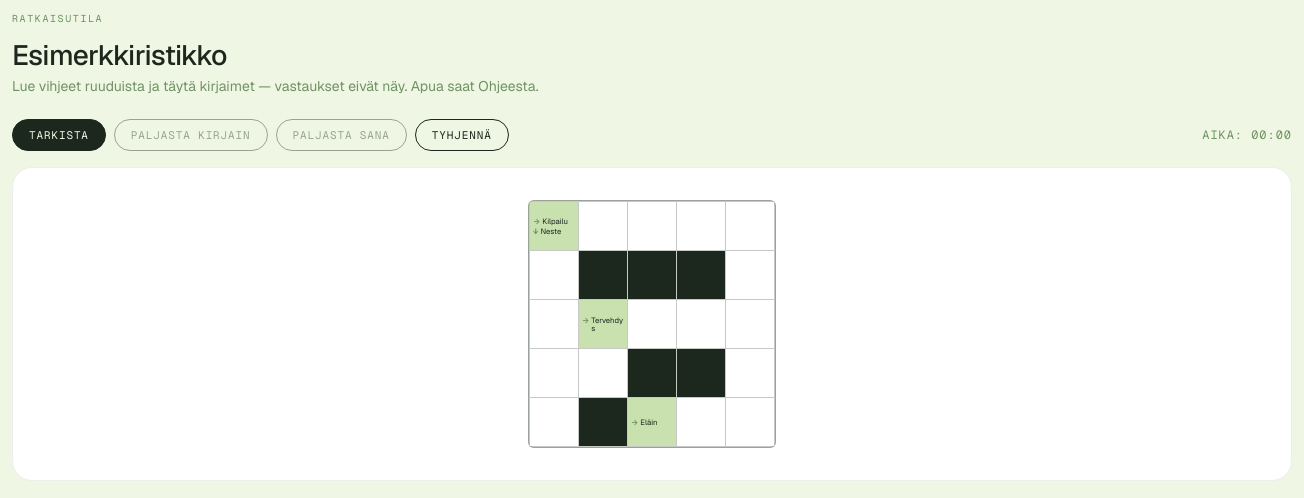
Test: SolveMode — click clue to focus answer › toggles between a two-clue cell across and down answers on re-click
The width and height of the screenshot is (1304, 498).
(0,0) owns across KISA (start (0,1)) and down VESI (start (1,0)).
Click the cell "→ Kilpailu ↓ Neste": [554, 226] box [530, 202, 578, 250]
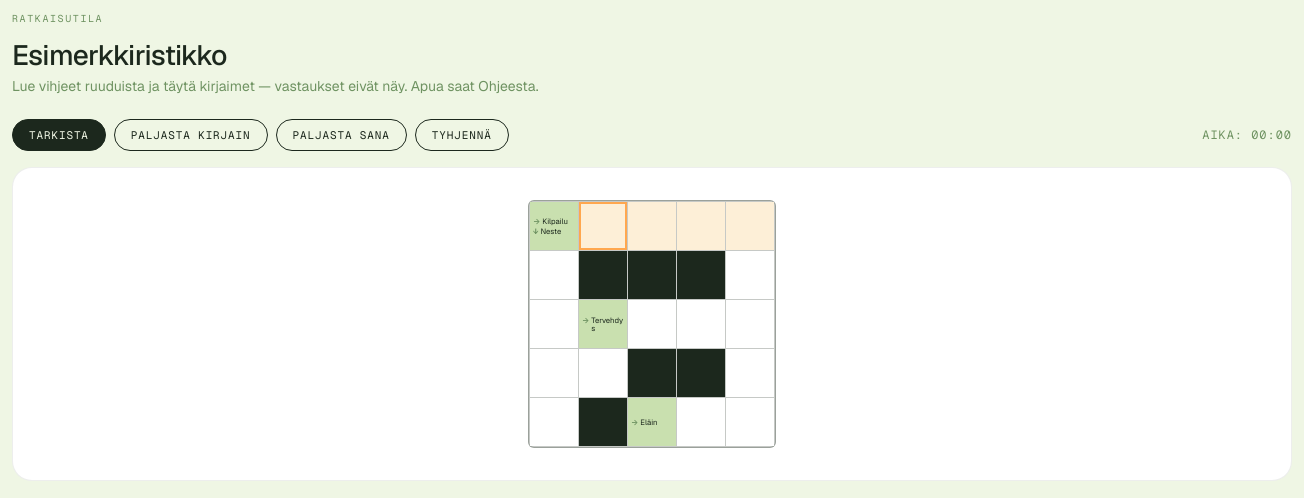
Press a in the element showing "→ Kilpailu ↓ Neste → Tervehdys → Eläin"
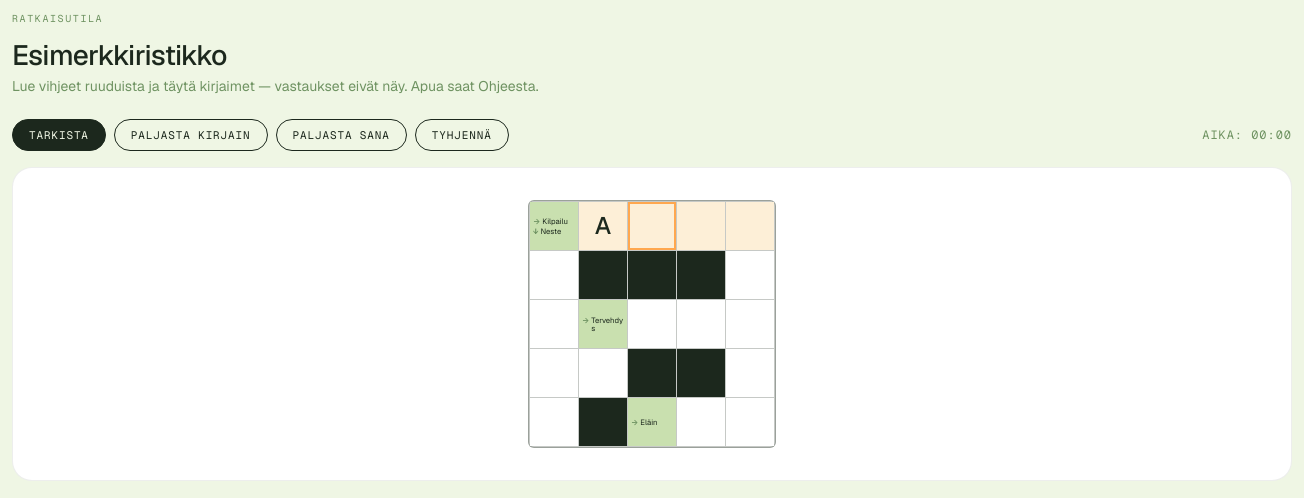
Click the cell "→ Kilpailu ↓ Neste": [554, 226] box [530, 202, 578, 250]
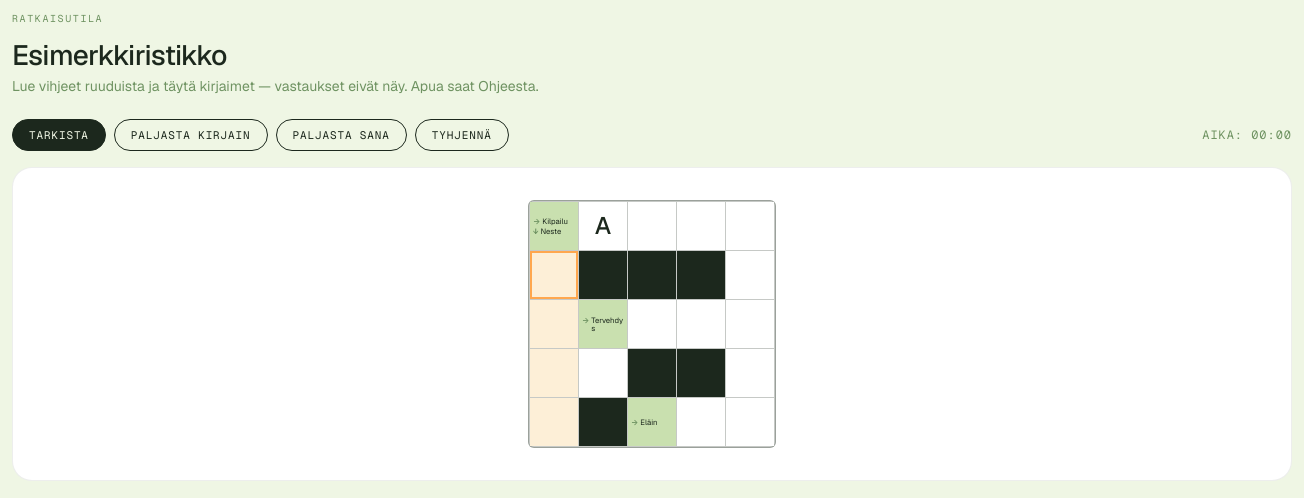
Press b in the element showing "→ Kilpailu ↓ Neste A → Tervehdys → Eläin"
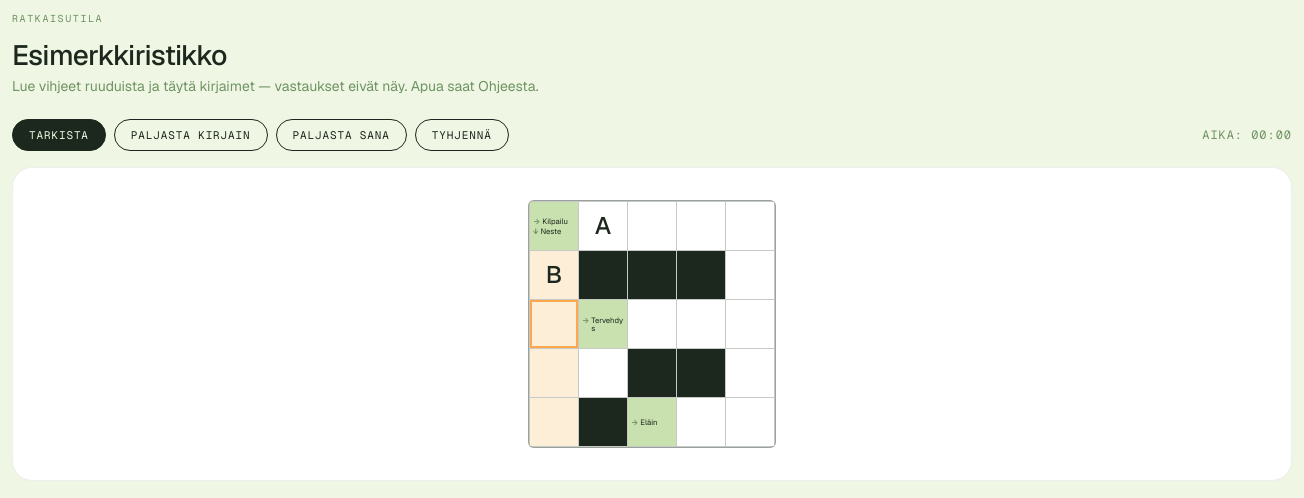
Check: the cell "A" is shown, box [579, 202, 627, 250]
Check: the cell "B" is shown, box [530, 251, 578, 299]
